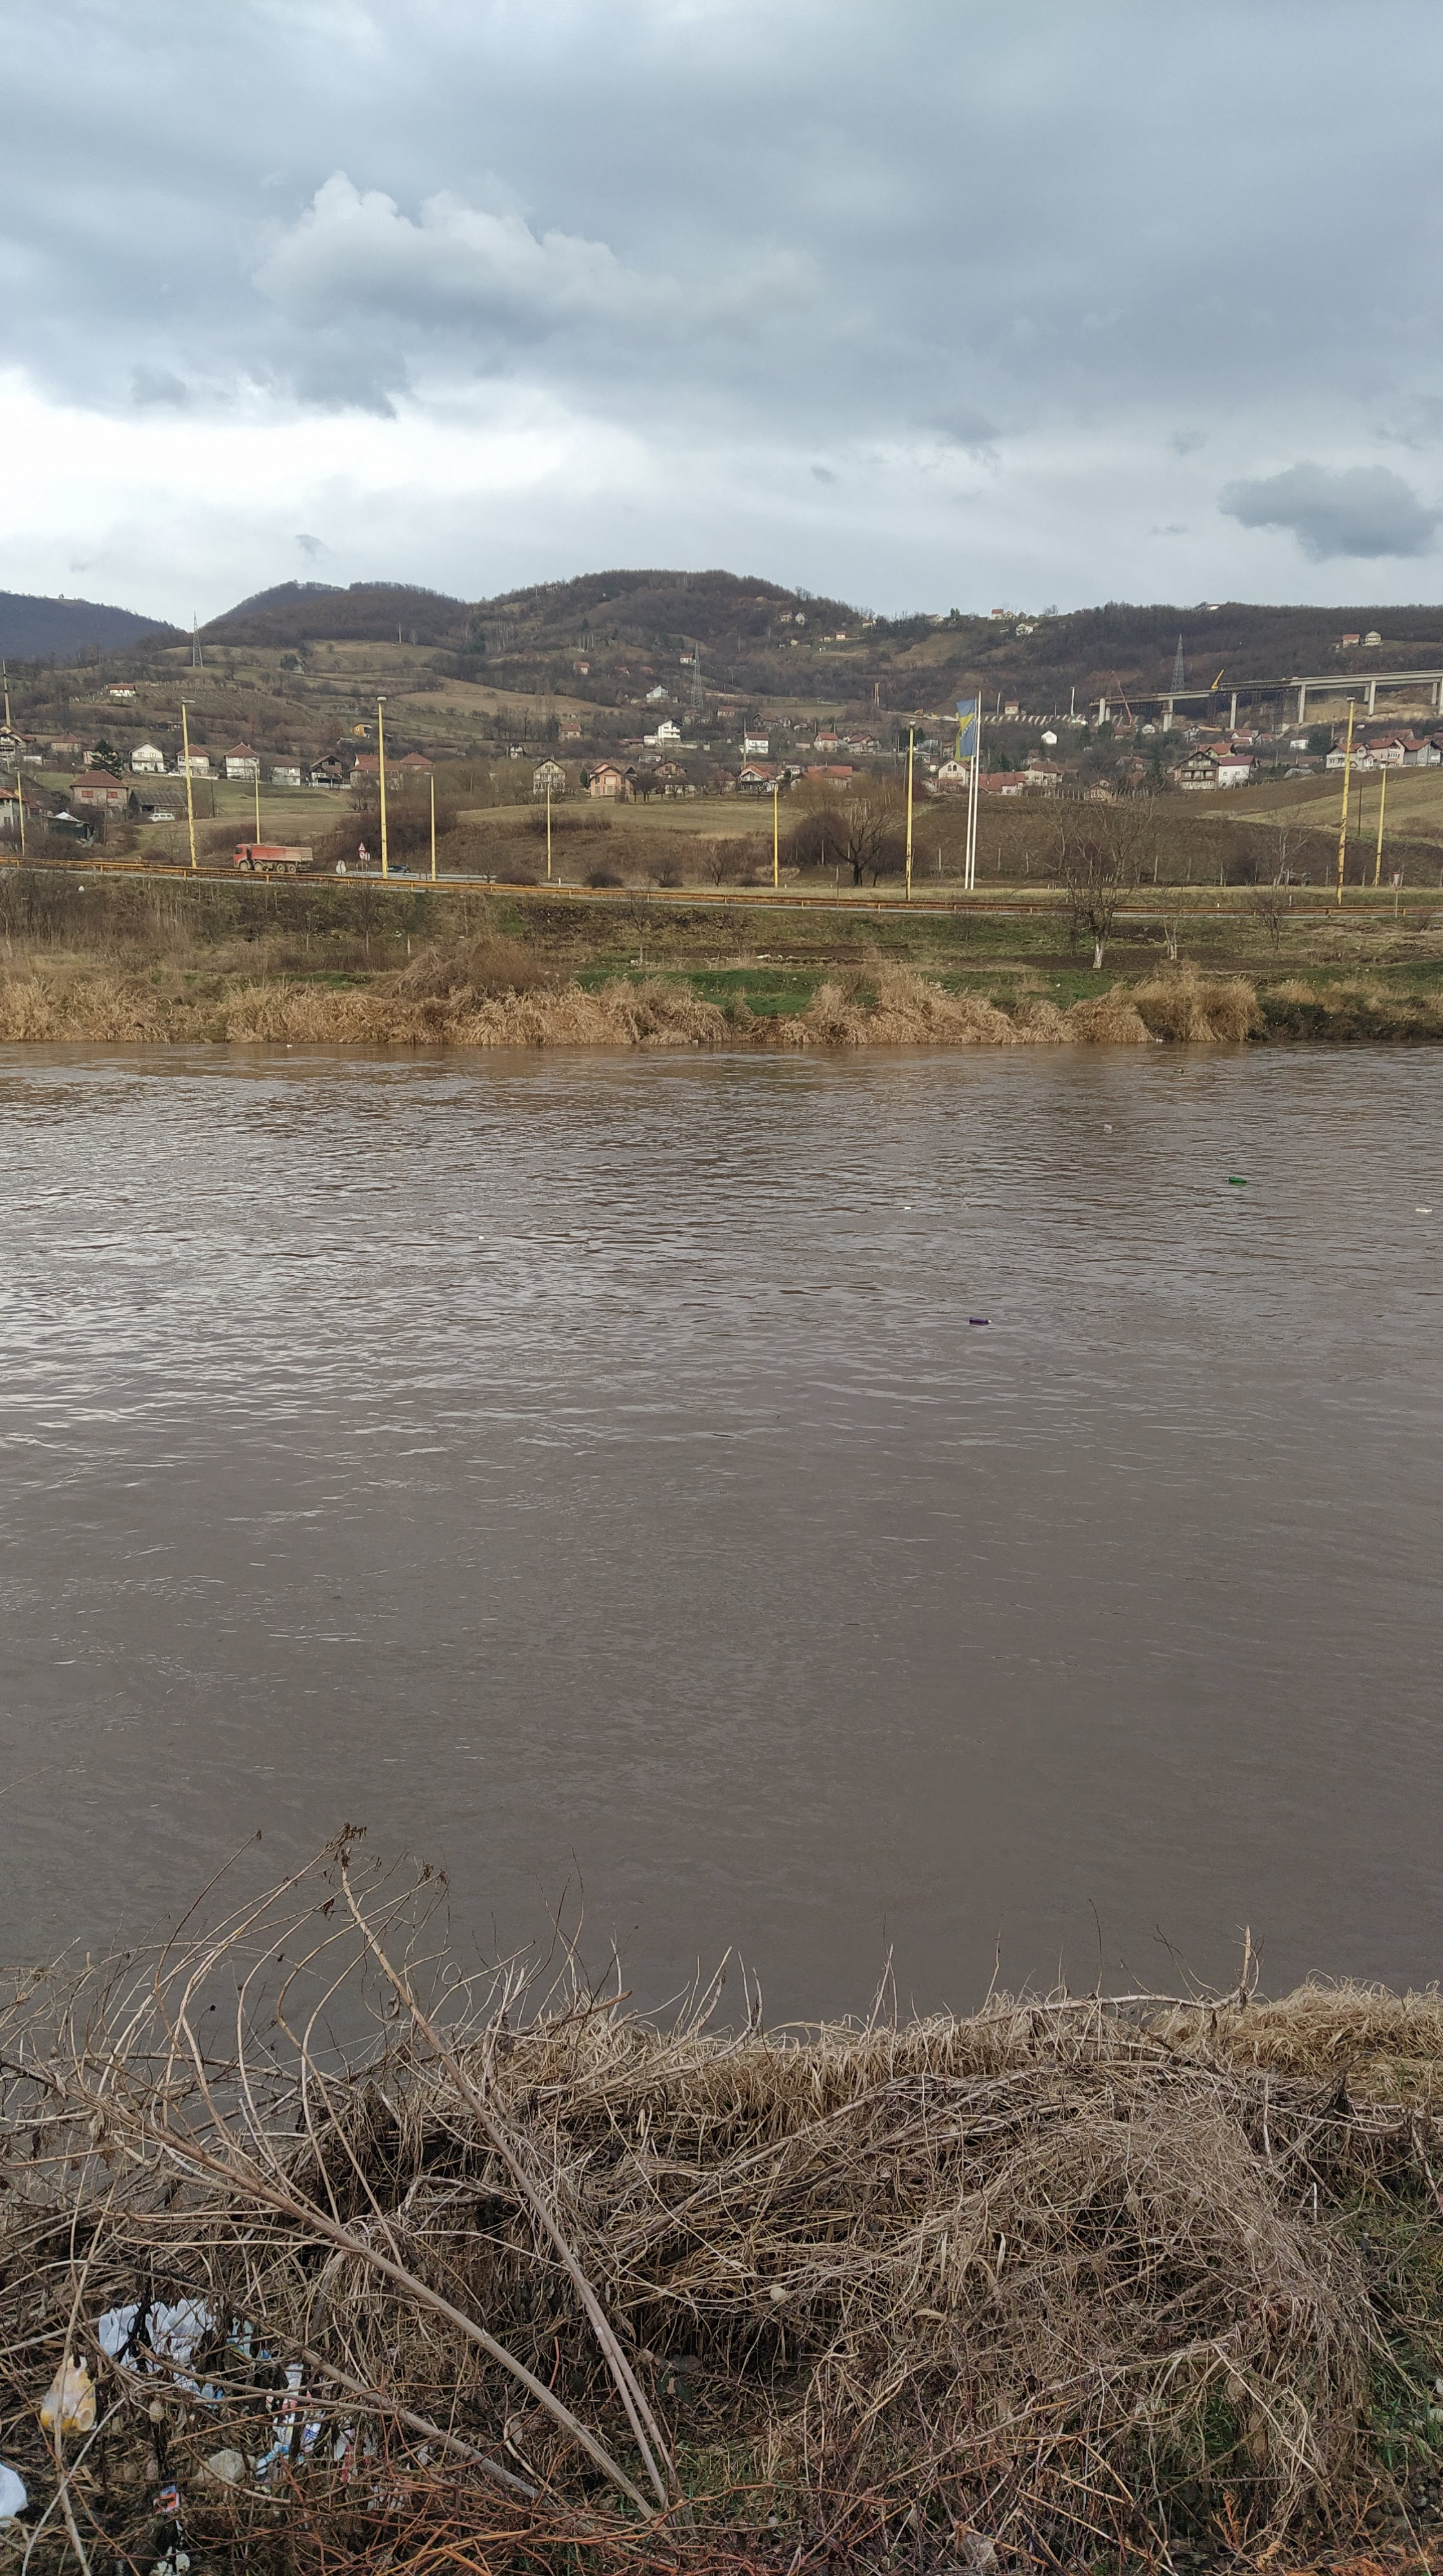Plastic Bottle: (970, 1316, 992, 1323), (1229, 1177, 1246, 1184), (1416, 1207, 1432, 1214), (1105, 1125, 1112, 1131), (1176, 1069, 1183, 1072), (1156, 1039, 1161, 1042)
